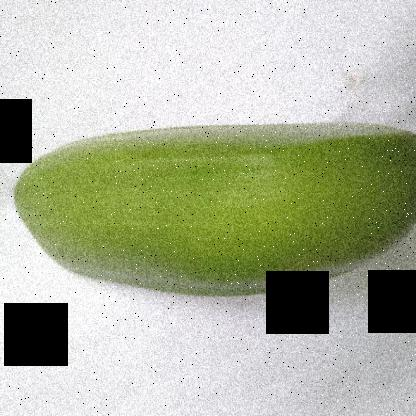freshunripe: (6, 97, 415, 319)
